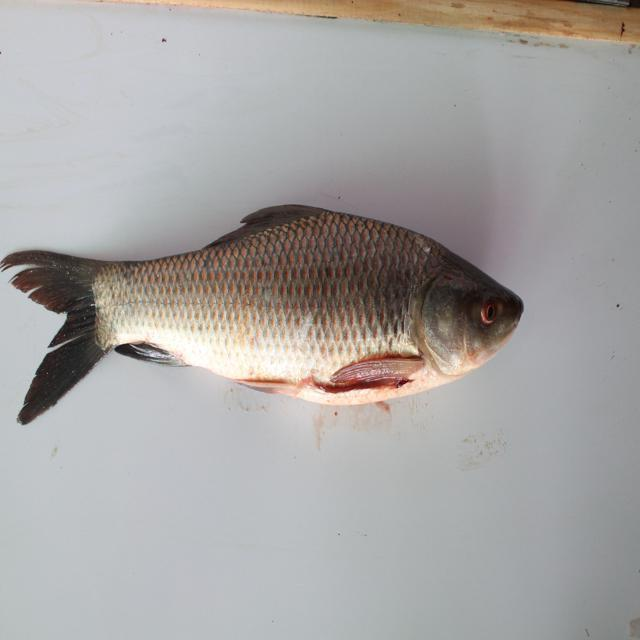Rohu: (10, 212, 526, 427)
